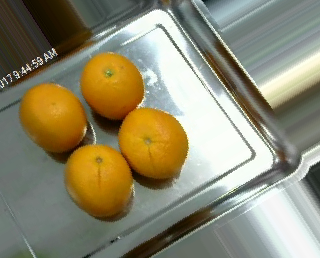Orange: (118, 107, 188, 179), (63, 142, 132, 215), (19, 82, 87, 151), (81, 50, 145, 118)
